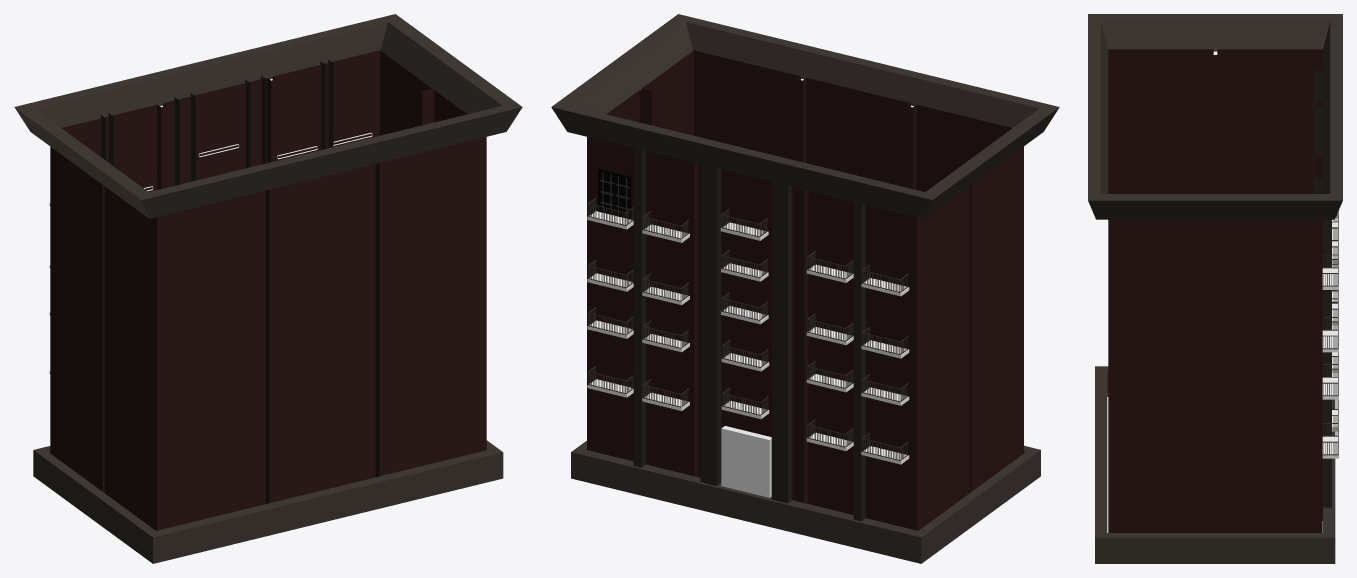
Rendered from BuildingTest.fbx.
3 renders of one model, left to right at view 1: azimuth 30°, elevation 25°; view 2: azimuth 150°, elevation 25°; view 3: azimuth 270°, elevation 25°, orthographic.
Parts seen in each view (by area): view 1: Building(5).001; view 2: Building(5).001, Cube.011, Window, Cube.003; view 3: Building(5).001, Cube.011, Cube.003.
Part boxes in pixels (x1,y1,x2,y2): Building(5).001: (14, 14, 522, 563); Building(5).001: (551, 14, 1059, 563); Cube.011: (587, 209, 909, 464); Window: (598, 169, 631, 219); Cube.003: (587, 197, 633, 229); Building(5).001: (1088, 14, 1342, 563); Cube.011: (1322, 210, 1338, 458); Cube.003: (1322, 254, 1338, 289).
Bounding box in the file's own units: 47.62 × 44.18 × 27.5.
